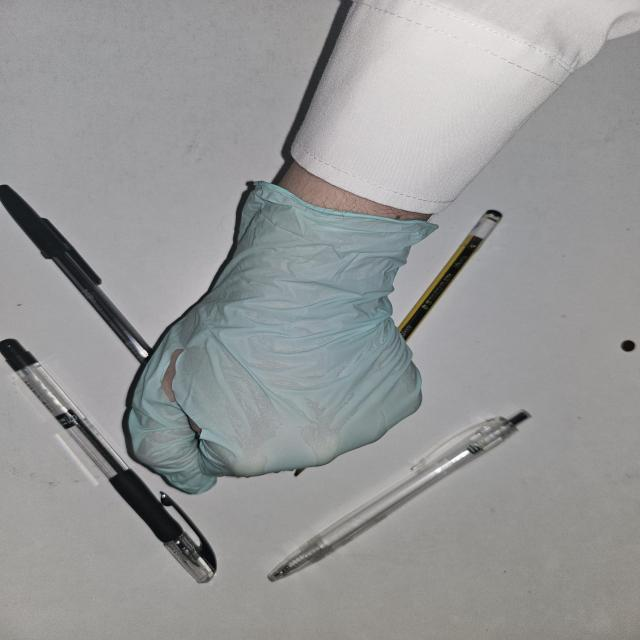gloves_damaged: (121, 175, 445, 495)
